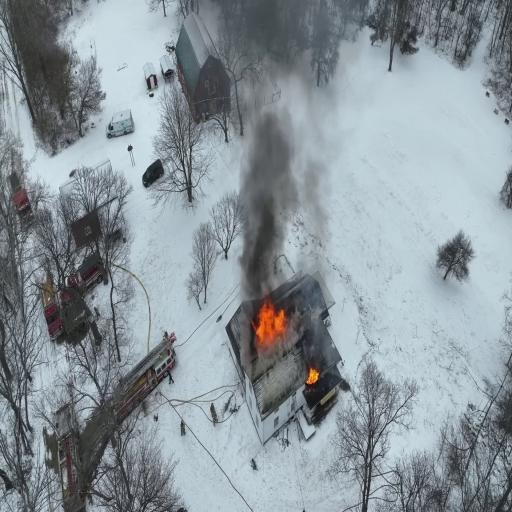fire: (256, 305, 284, 348), (306, 365, 317, 389)
smoke: (246, 140, 281, 284)
